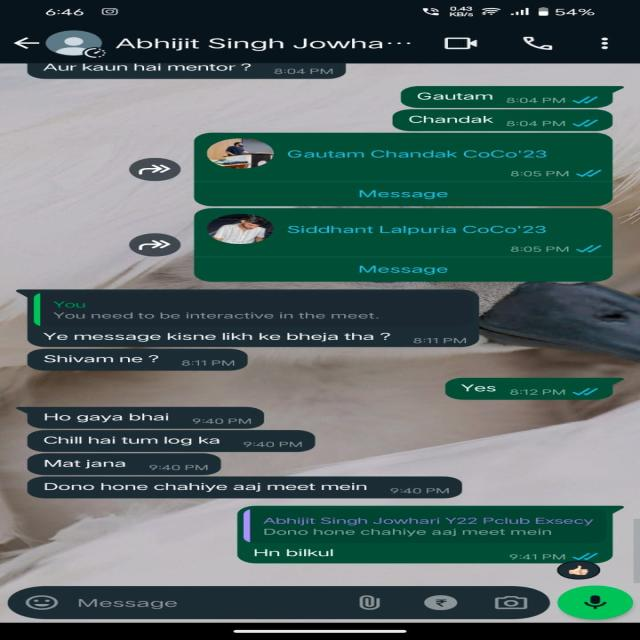text: (23, 477, 405, 499), (36, 326, 406, 346), (38, 58, 282, 79), (35, 429, 230, 453), (32, 405, 188, 425), (41, 346, 169, 367), (34, 455, 134, 478)
